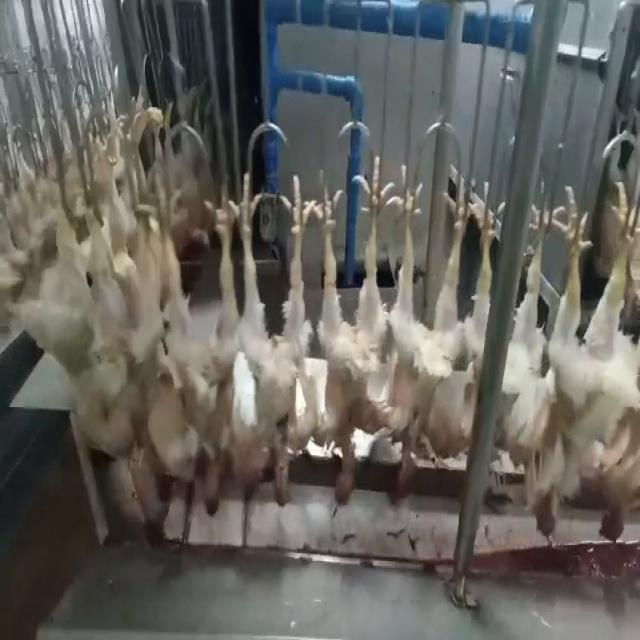chicken: (386, 171, 498, 489), (302, 151, 392, 507), (153, 179, 237, 518), (228, 169, 308, 507), (507, 189, 580, 550), (74, 194, 154, 472), (581, 185, 636, 546)
